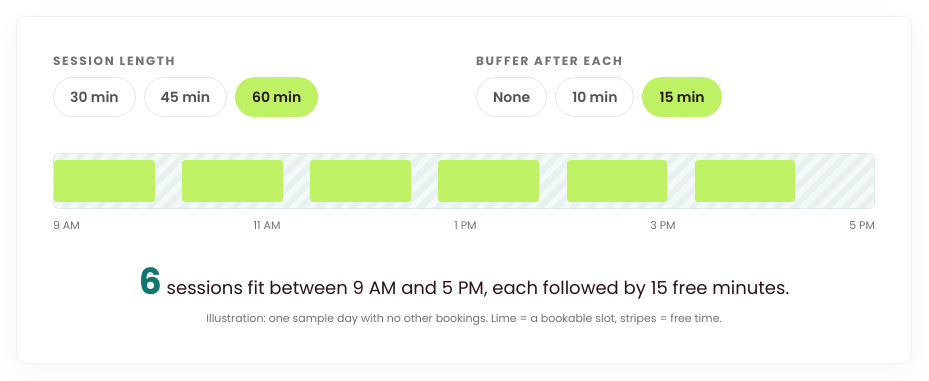
Test: Availability feature page › recounts sessions when duration or buffer changes
(page scrolled)
Expected: the text with test id "day-slots" reads "6", [139,256,162,307]
Click the radio button labelled "None" at (512, 97), box [476,77,547,117]
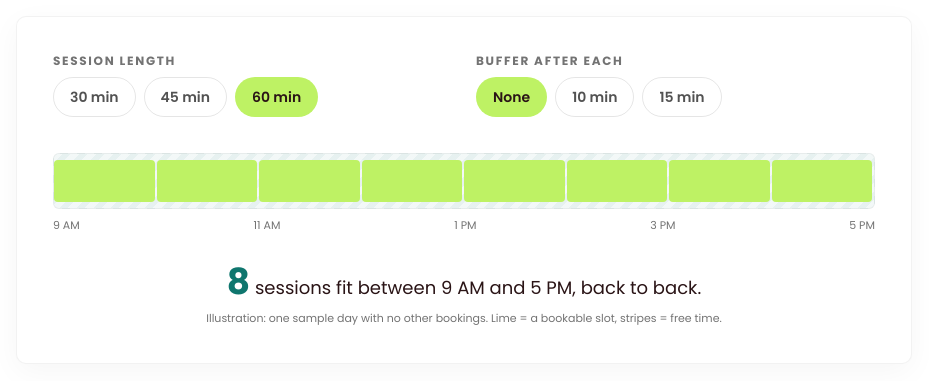
Expected: the text with test id "day-slots" reads "8", [227,256,250,307]
Click the radio button labelled "30 min" at (94, 97), box [53,77,136,117]
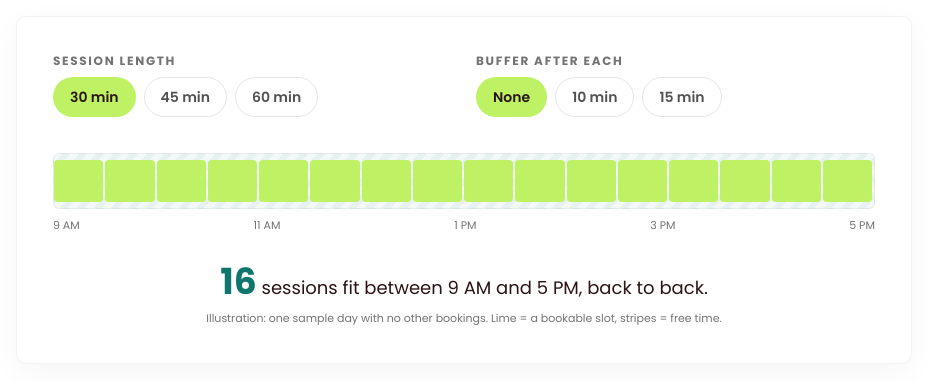
Expected: the text with test id "day-slots" reads "16", [220,256,257,307]
